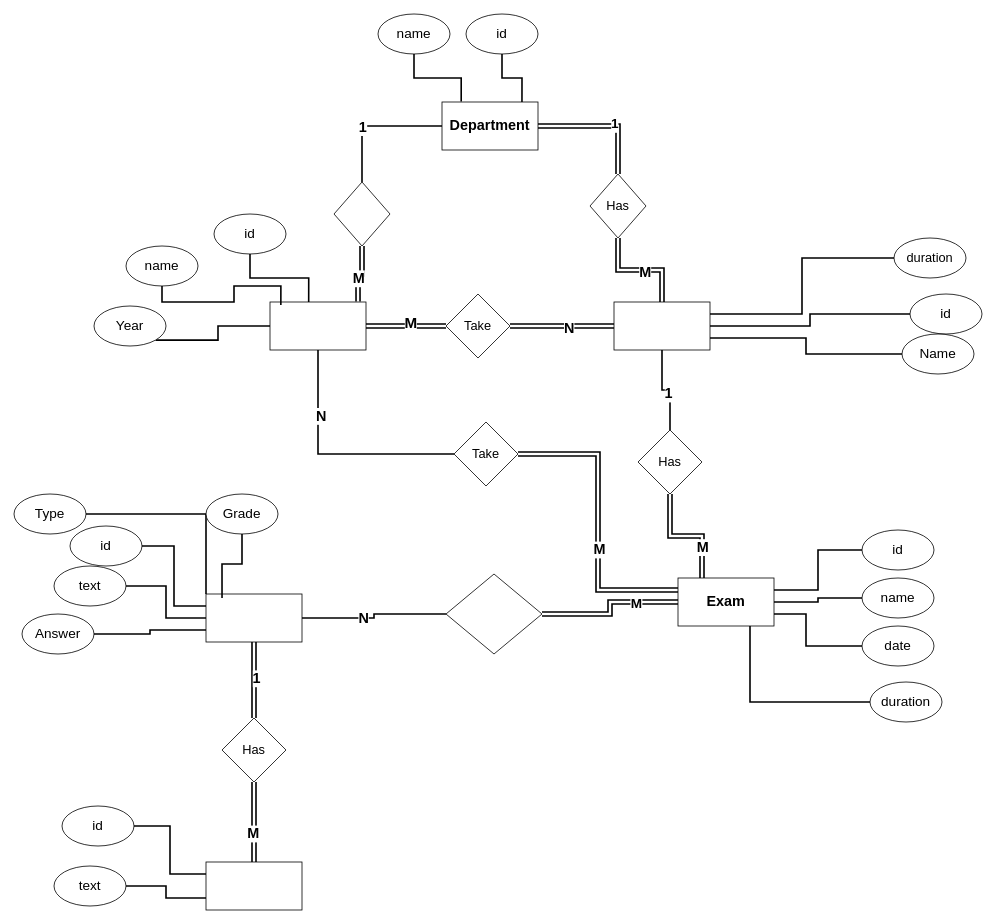
Some shapes in this 996 by 924 pixel diagram are drawn without their labels. The shapes that lost their labels are listed below. From the top down, each one's box as (x1, y1, x2, y2) in pixels, then its label:
(333, 181, 390, 246): in
(269, 301, 366, 350): Student
(613, 301, 710, 350): Course
(205, 593, 302, 642): Question
(445, 573, 542, 654): Constit of
(205, 861, 302, 910): Choice
